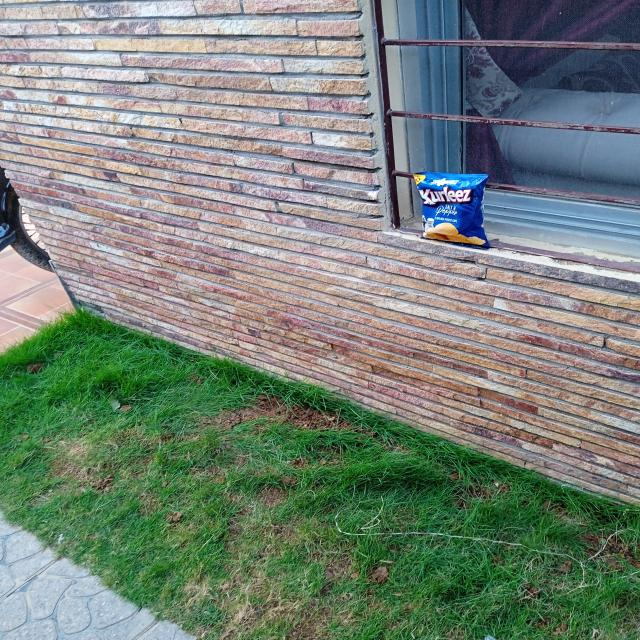Plastic: (406, 163, 497, 251)
